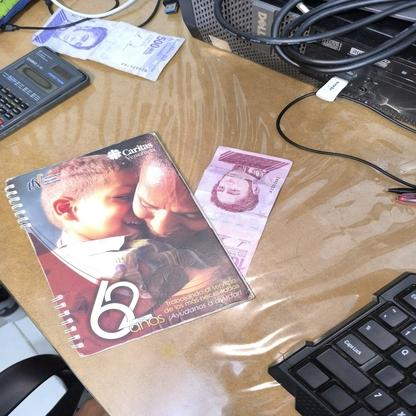one_hundred-front-vef: (193, 146, 293, 278)
